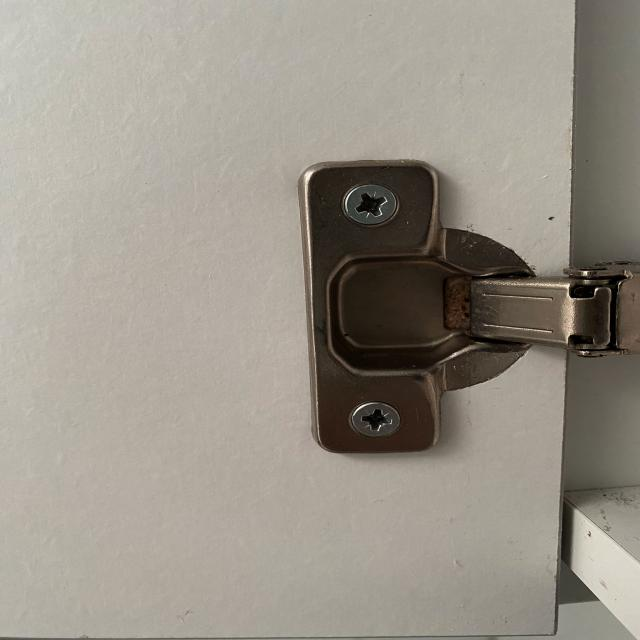PhillipsScrewHead: (344, 184, 398, 225), (350, 401, 402, 438)
